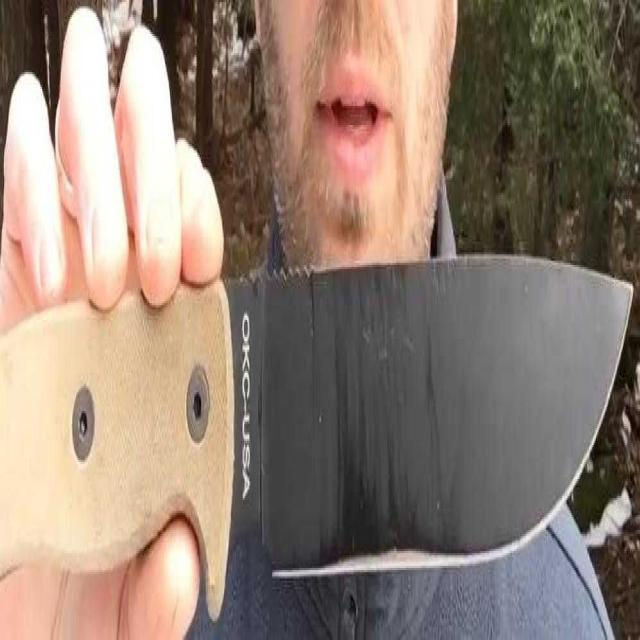knife: (0, 252, 640, 570)
